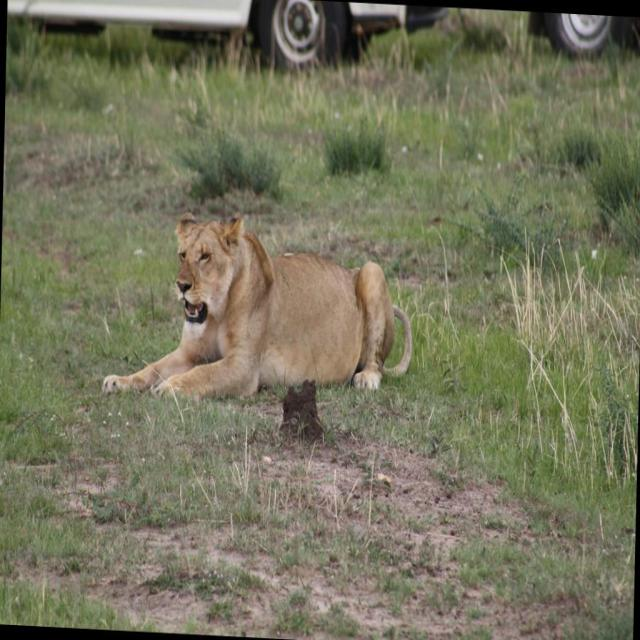Lion: (104, 204, 417, 401)
